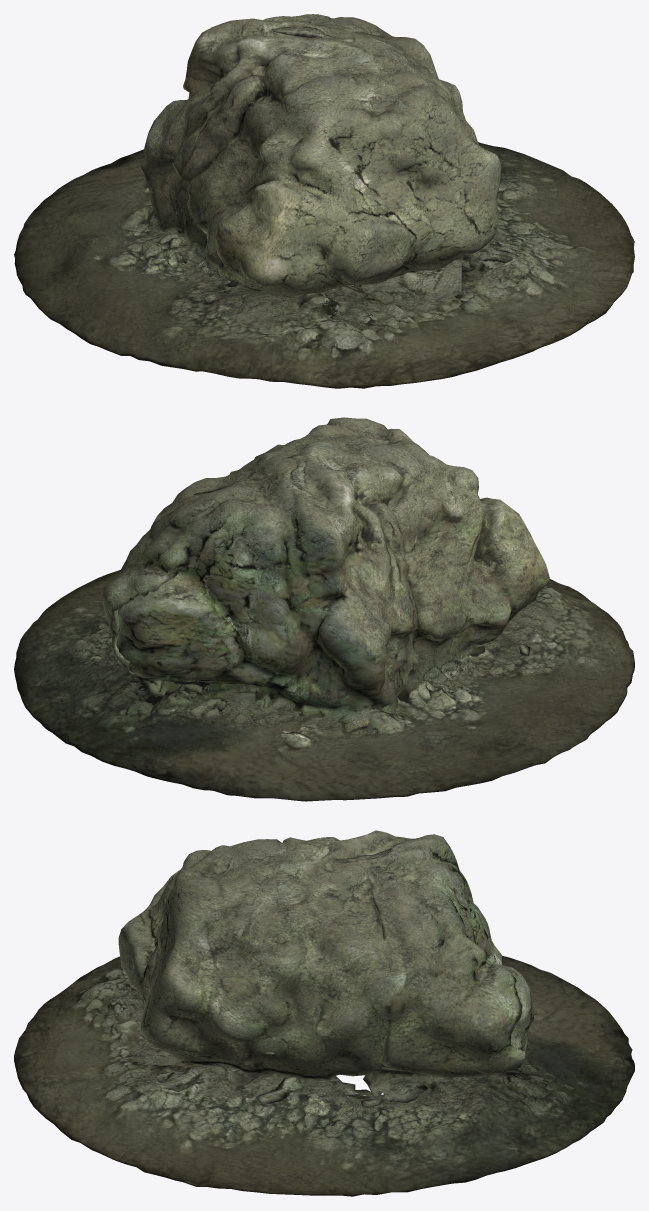
Rendered from rock.glb.
The picture shows the model from 3 angles, top to bottom: view 1: azimuth 30°, elevation 25°; view 2: azimuth 150°, elevation 25°; view 3: azimuth 270°, elevation 25°; orthographic projection.
Visible parts, largest first — view 1: Mesh_0.001; view 2: Mesh_0.001; view 3: Mesh_0.001.
Boxes of the visible parts, x1,y1,x2,y2 form: Mesh_0.001: (14,14,634,388); Mesh_0.001: (14,417,634,801); Mesh_0.001: (14,830,634,1196).
Size of the model in its own units: 5.21 by 2 by 5.2.
Materials: 1 (1 with a texture image).
